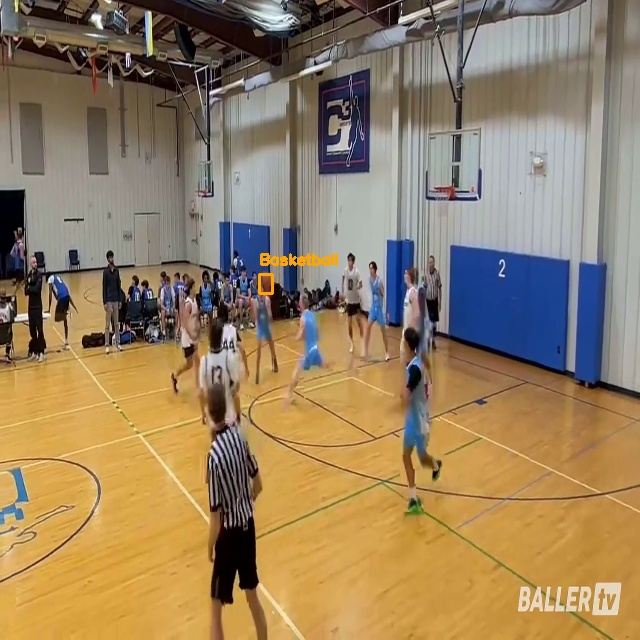Basketball: (259, 274, 272, 293)
